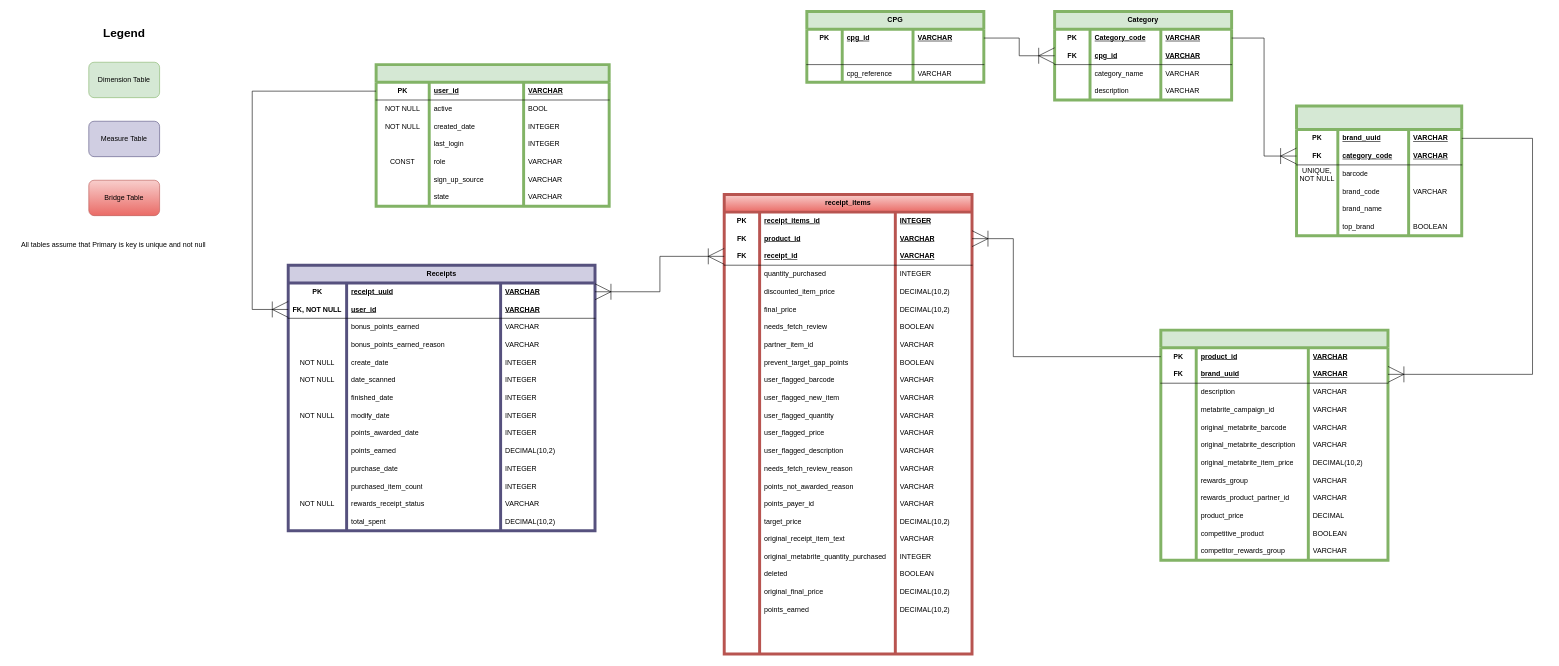
This 1559x666 diagram has some shape labels left out. Here are the shapes that lost their labels. From the top down, the box of each, then its label:
(374, 63, 610, 207): Users
(1295, 104, 1463, 237): Brands
(1159, 328, 1389, 561): products
